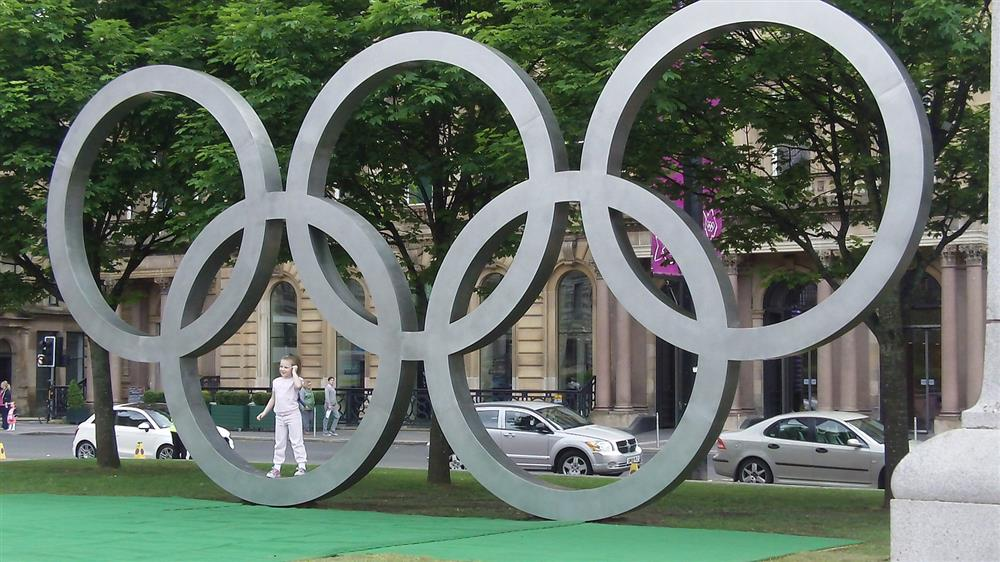Olympic_rings: (46, 1, 936, 525)
